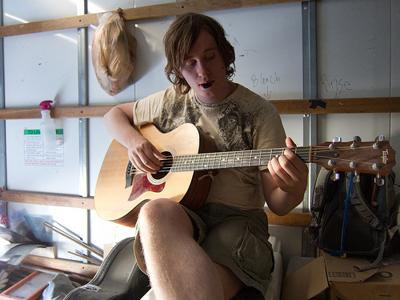person: (104, 13, 308, 299)
